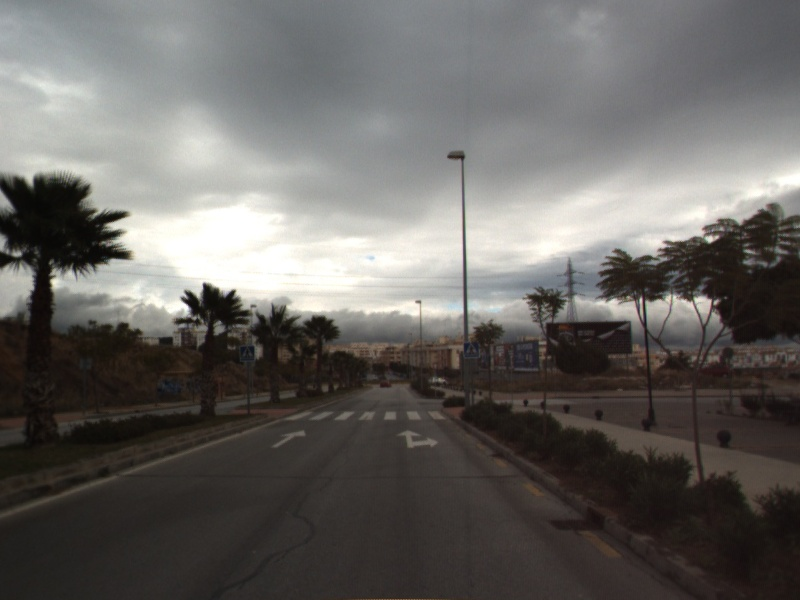STRAIGHT: (269, 428, 308, 450)
STRAIGHT_RIGHT: (394, 427, 441, 450)
